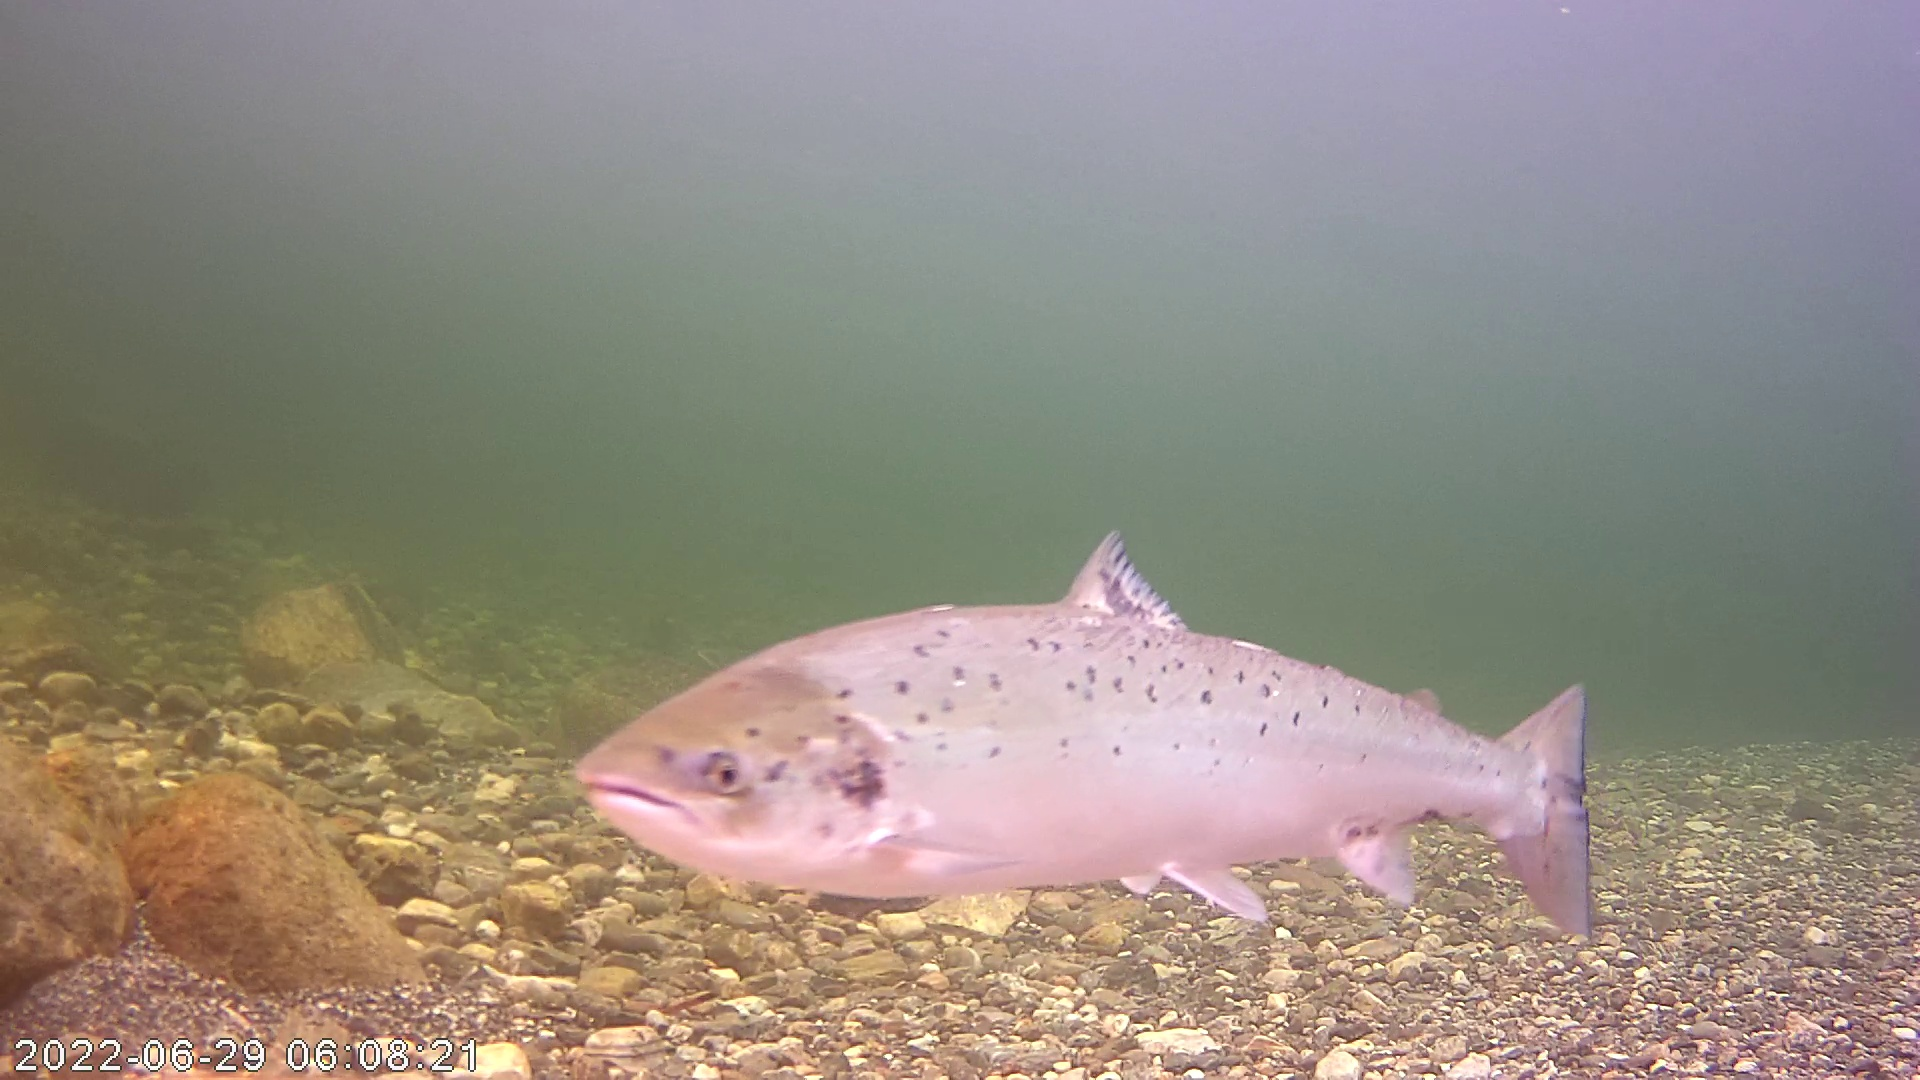salmon: (567, 469, 1597, 924)
